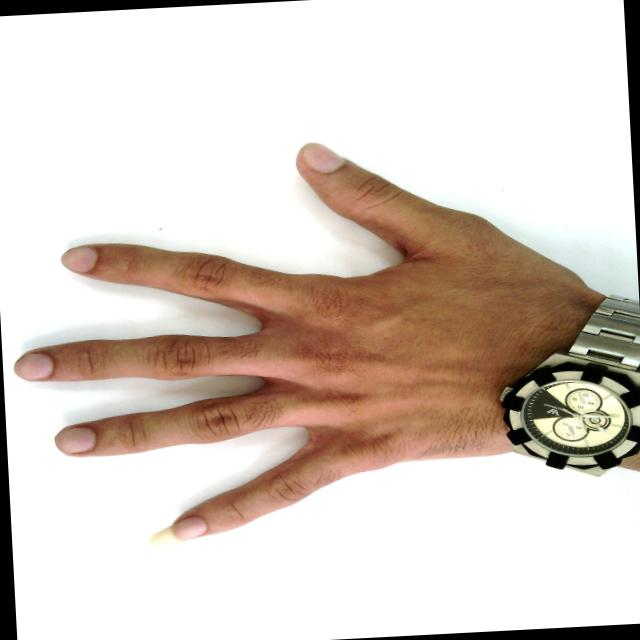Nail: (148, 517, 207, 550), (300, 143, 345, 173), (53, 428, 94, 456), (12, 354, 52, 381), (60, 246, 97, 272)
